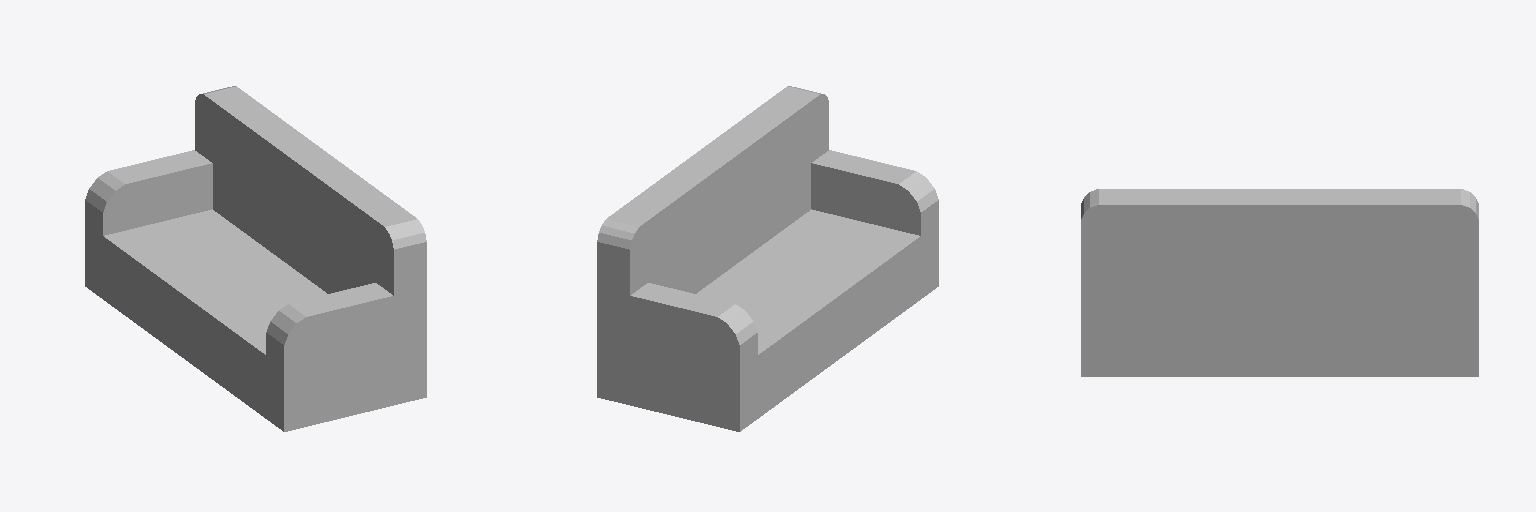
Rendered from sofa.obj.
The picture shows the model from 3 angles: view 1: azimuth 30°, elevation 25°; view 2: azimuth 150°, elevation 25°; view 3: azimuth 270°, elevation 25°; orthographic projection.
Parts seen in each view (by area): view 1: sofa_Cube.003; view 2: sofa_Cube.003; view 3: sofa_Cube.003.
Boxes of the visible parts, <box> form: sofa_Cube.003: <box>85,86,426,431</box>; sofa_Cube.003: <box>597,86,938,431</box>; sofa_Cube.003: <box>1081,189,1478,376</box>.
Bounding box in the file's own units: 2.55 × 2.94 × 6.18.